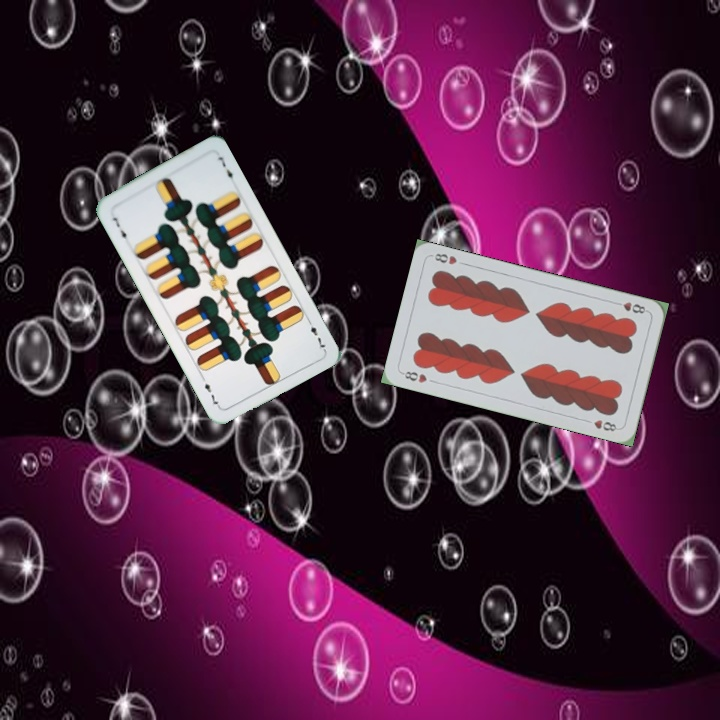E7: (303, 314, 328, 352), (109, 213, 130, 246)
H8: (610, 298, 650, 316), (398, 367, 430, 386)
